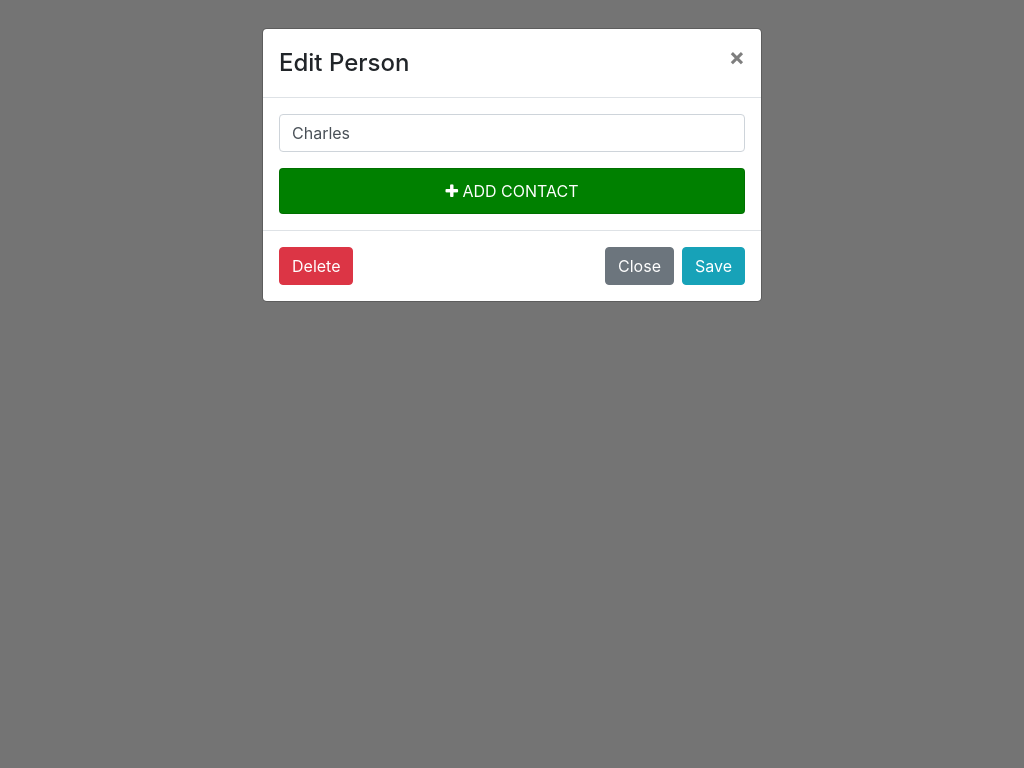
Scenario: should ask confirmation to delete
Step 1. Click the button "Delete" → (316, 266), box [279,247,354,285]
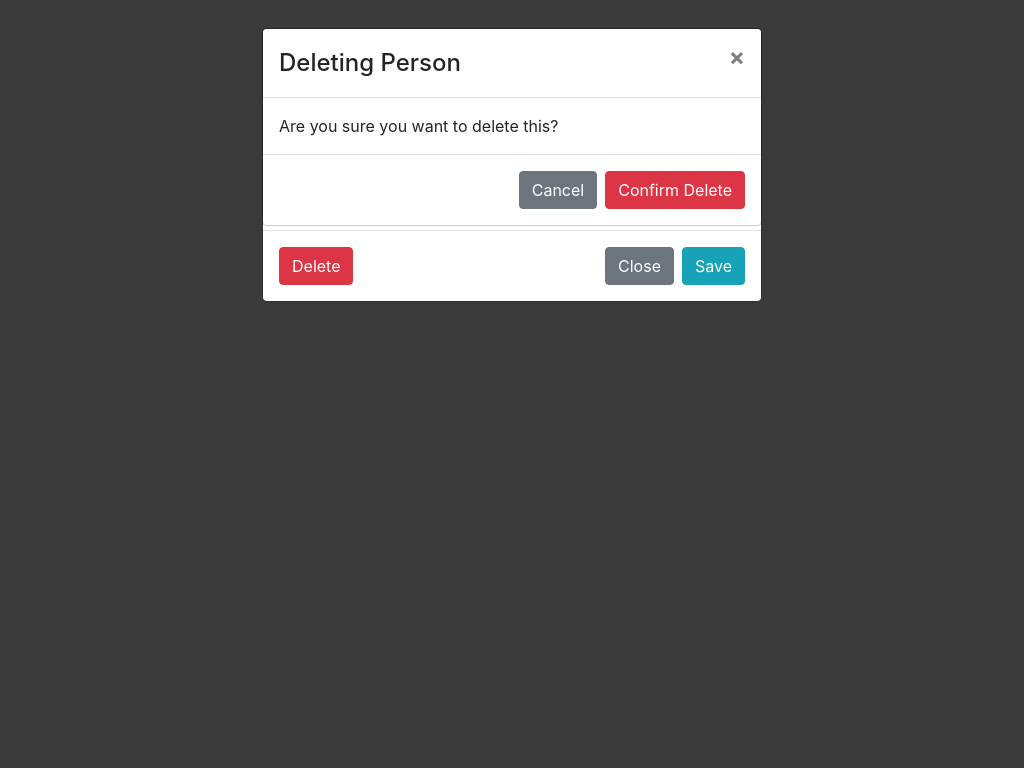
Expected: the button "Confirm Delete" is shown, [605,171,745,209]
